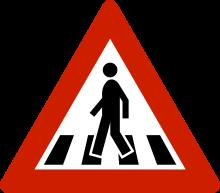Pedestrian Crossing: (18, 21, 203, 177)
